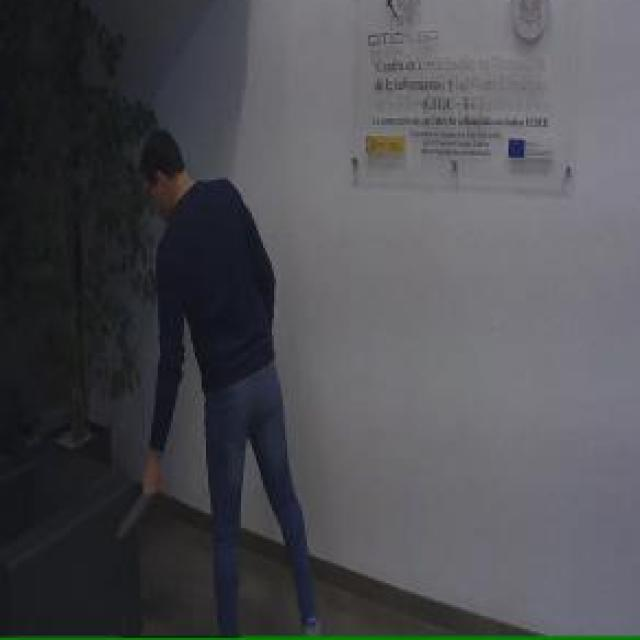knife: (114, 471, 160, 545)
